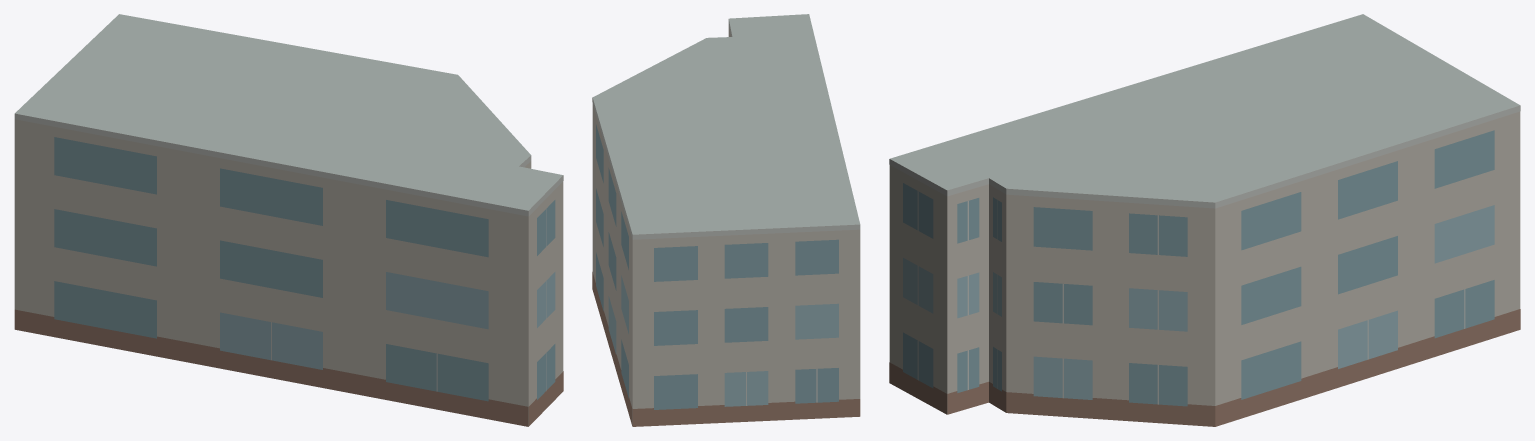
Rendered from survey-upis-32584381.glb.
The picture shows the model from 3 angles, left to right: view 1: azimuth 30°, elevation 25°; view 2: azimuth 150°, elevation 25°; view 3: azimuth 270°, elevation 25°; orthographic projection. The views are drawn at different scales.
Visible parts, largest first — view 1: survey-upis-32584381.tmp; view 2: survey-upis-32584381.tmp; view 3: survey-upis-32584381.tmp.
Boxes of the visible parts, left/top/right/bottom form: survey-upis-32584381.tmp: left=14, top=14, right=563, bottom=426; survey-upis-32584381.tmp: left=592, top=14, right=860, bottom=426; survey-upis-32584381.tmp: left=889, top=14, right=1520, bottom=426.
Size of the model in its own units: 16.51 by 9.15 by 23.34.
